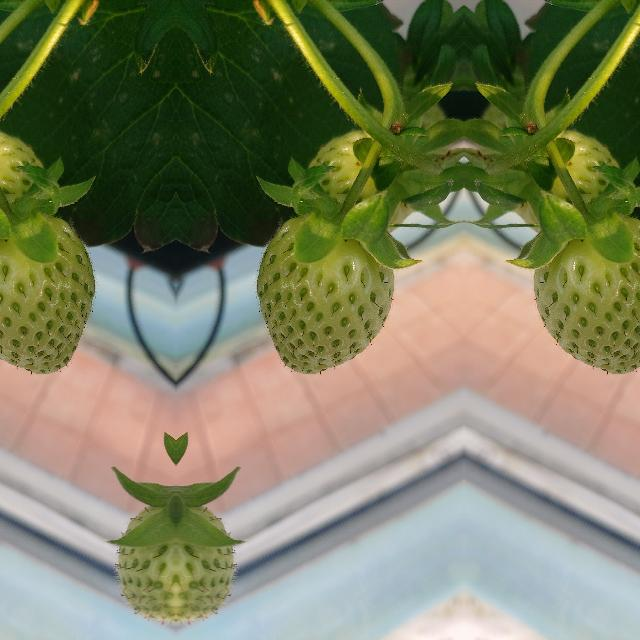Health_25: (256, 217, 394, 373), (532, 217, 640, 373), (0, 217, 93, 373), (298, 130, 427, 238), (499, 130, 628, 238), (175, 502, 239, 624), (111, 502, 175, 624), (0, 130, 52, 237)
